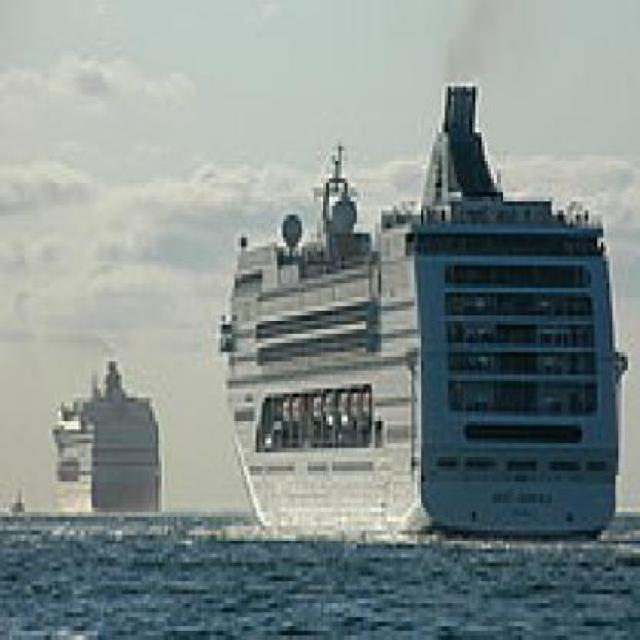cruise: (202, 70, 639, 559)
